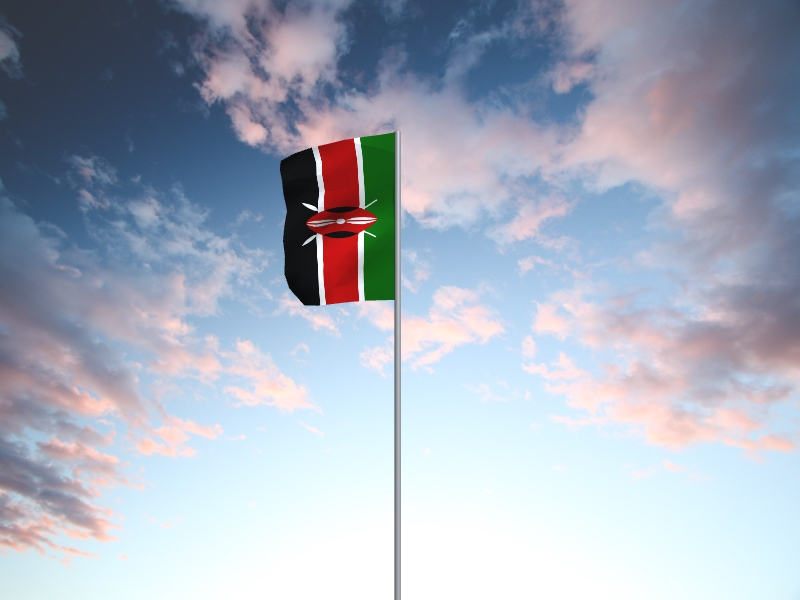ke: (280, 133, 395, 307)
